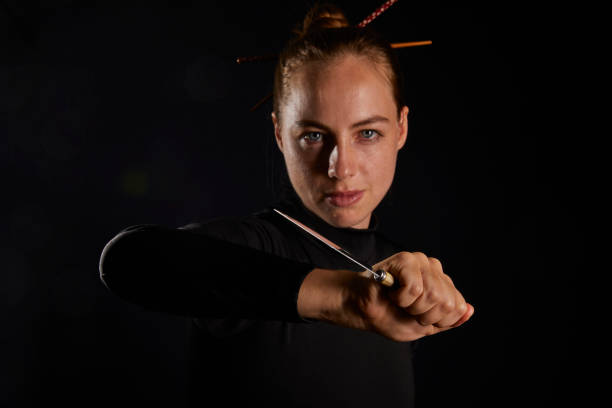knife: (274, 208, 475, 330)
